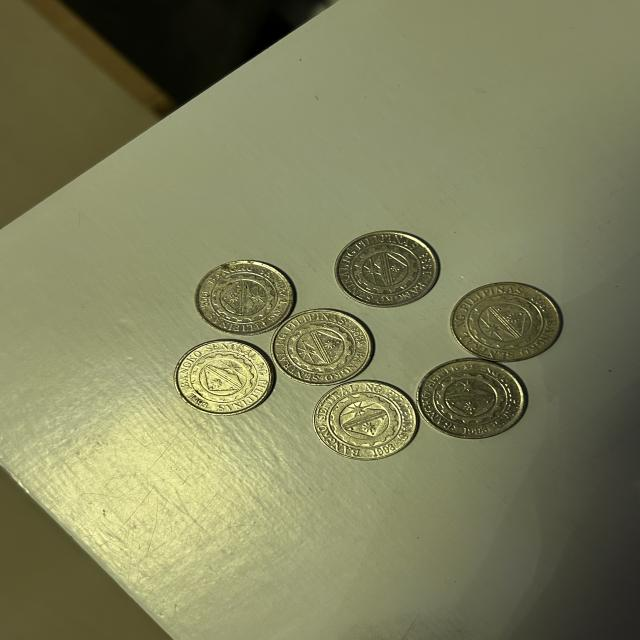1_Old_Back: (428, 367, 520, 423), (466, 292, 548, 350), (328, 390, 406, 450), (346, 238, 421, 298), (182, 348, 261, 404), (206, 270, 280, 326), (286, 320, 362, 372)
